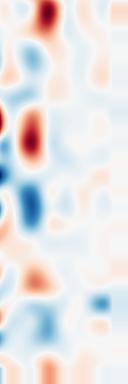filament: (13, 106, 50, 167), (22, 0, 70, 45)
